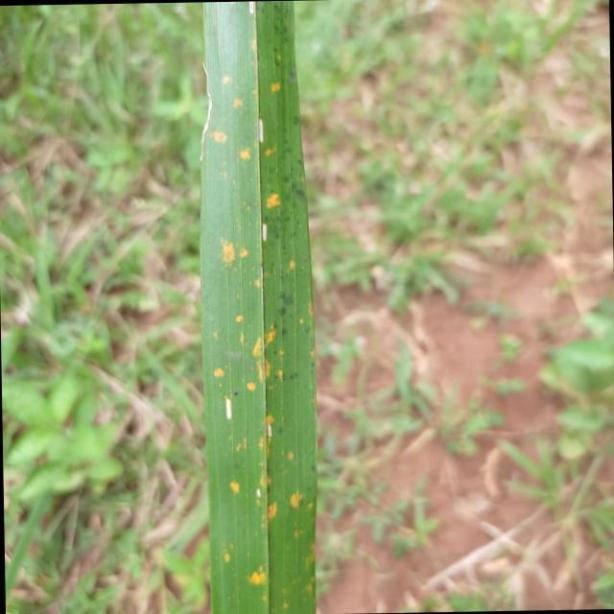Kalium: (200, 0, 323, 614)
